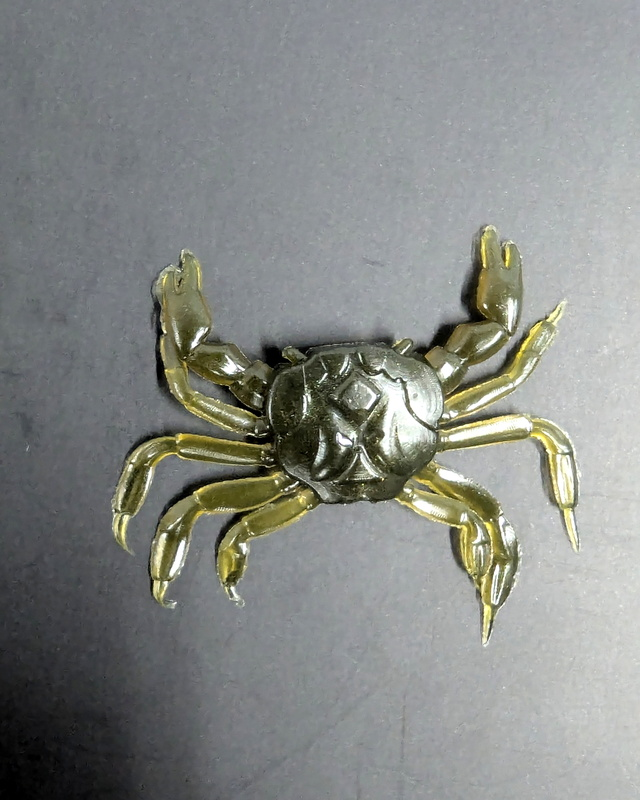crab2: (114, 222, 586, 650)
